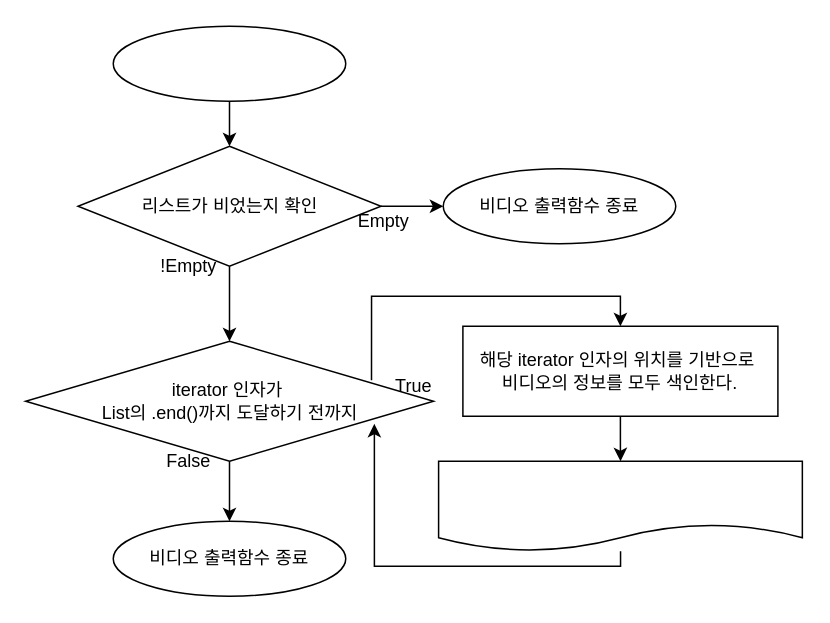
Some shapes in this 830 by 623 pixel diagram are drawn without their labels. The centre of each missing label's shape, as x and y in pixels:
비디오 출력함수 호출: [229,63]
비디오의 이름, 고유 인덱스, 대여상태를 출력: [619,505]
